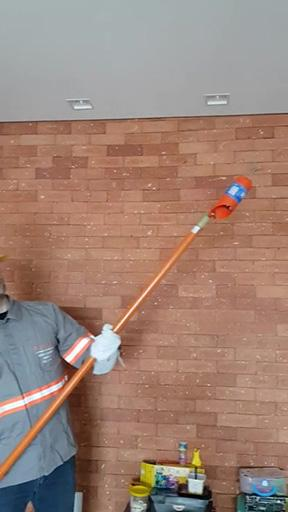Detector_Tensao_Contato: (206, 165, 259, 222)
Vara_Manobra: (1, 216, 208, 477)
